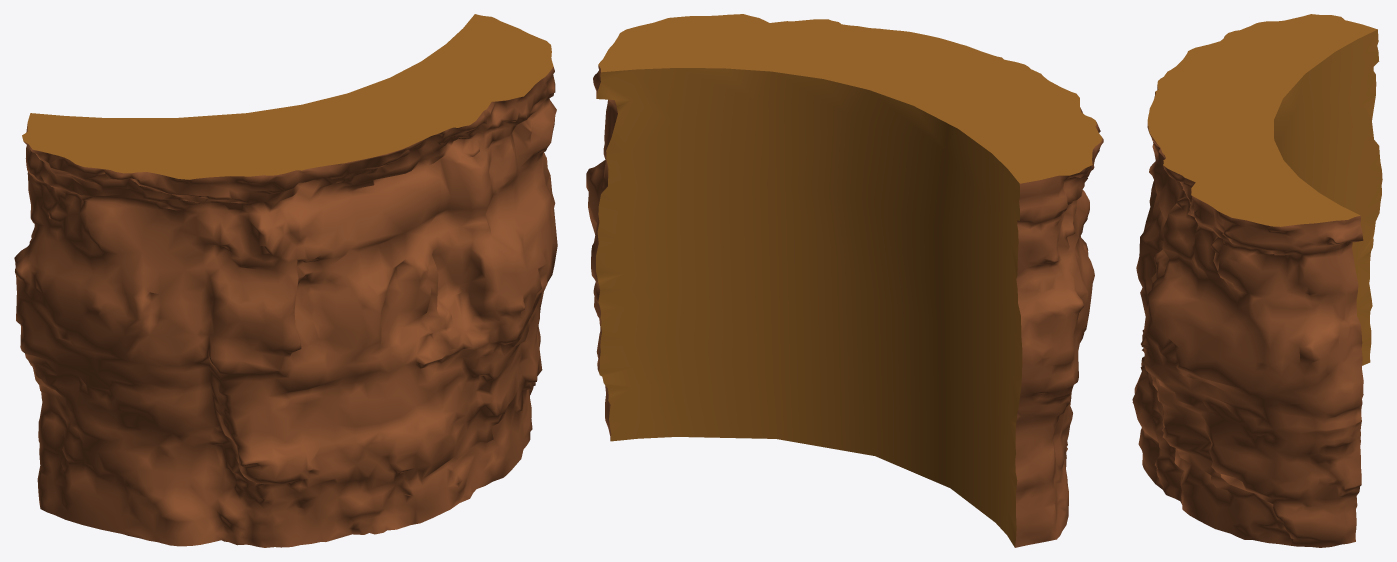
The model's file is MSH_Rocks_Cliff_29.FBX.
The picture shows the model from 3 angles, left to right: view 1: azimuth 30°, elevation 25°; view 2: azimuth 150°, elevation 25°; view 3: azimuth 270°, elevation 25°; orthographic projection. The views are drawn at different scales.
Visible parts, largest first — view 1: MESH_LOD0, CAP_LOD0; view 2: CAP_LOD0, MESH_LOD0; view 3: MESH_LOD0, CAP_LOD0.
Boxes of the visible parts, x1=… form: MESH_LOD0: x1=14, y1=58, x2=557, y2=547; CAP_LOD0: x1=22, y1=14, x2=553, y2=179; CAP_LOD0: x1=596, y1=14, x2=1102, y2=547; MESH_LOD0: x1=586, y1=65, x2=1103, y2=547; MESH_LOD0: x1=1132, y1=36, x2=1363, y2=547; CAP_LOD0: x1=1147, y1=14, x2=1382, y2=365.
Size of what is drawn, in the model's own units: 952 by 661 by 455.
